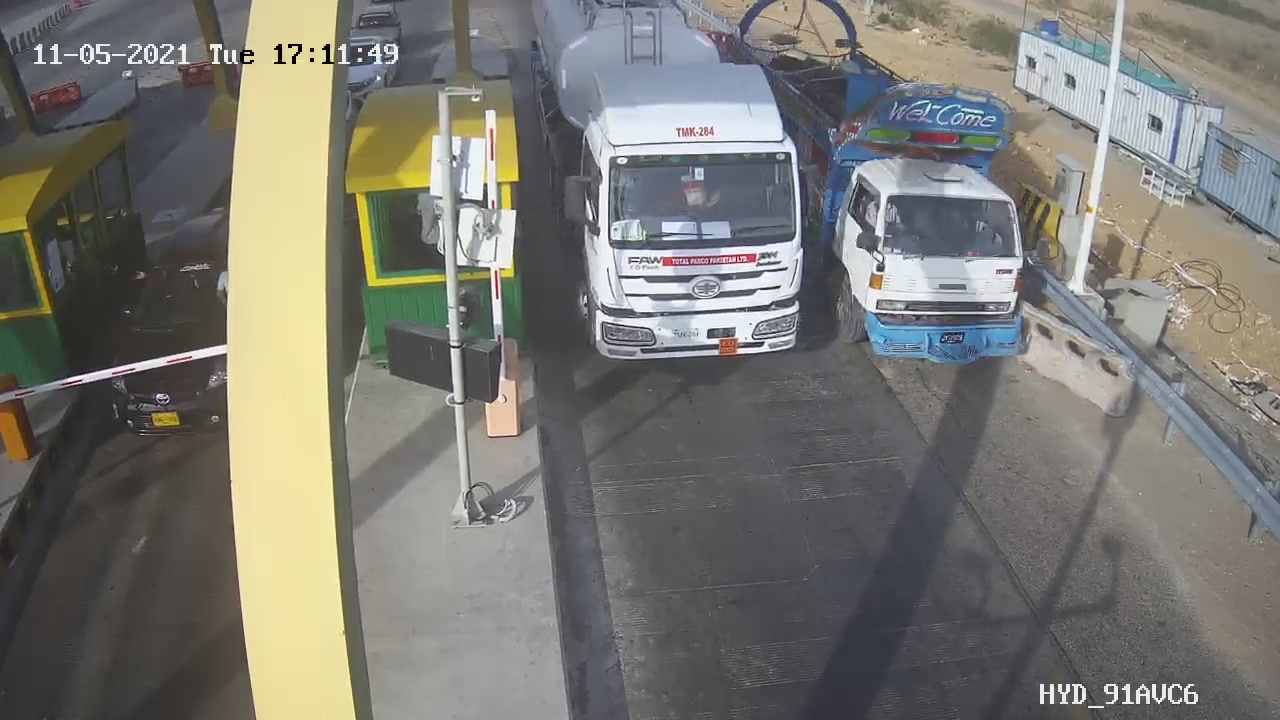F5: (808, 12, 1063, 392)
